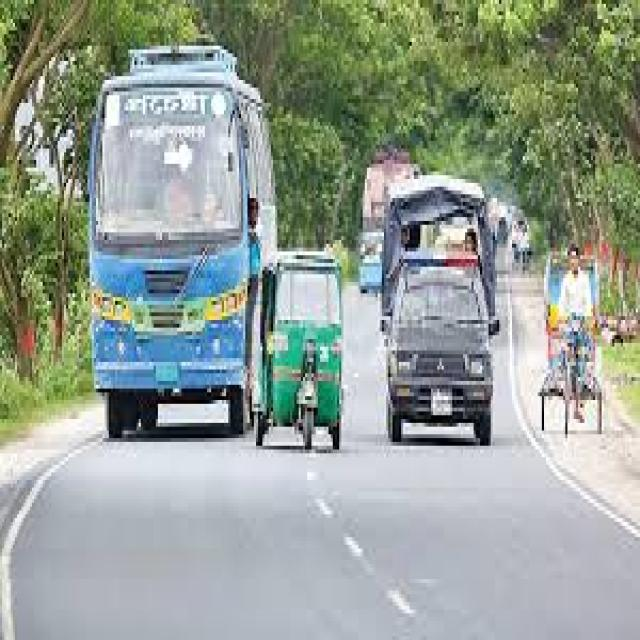bus: (90, 46, 275, 438)
person: (561, 244, 591, 316)
three wheeler: (256, 251, 339, 450)
van: (382, 175, 497, 446)
